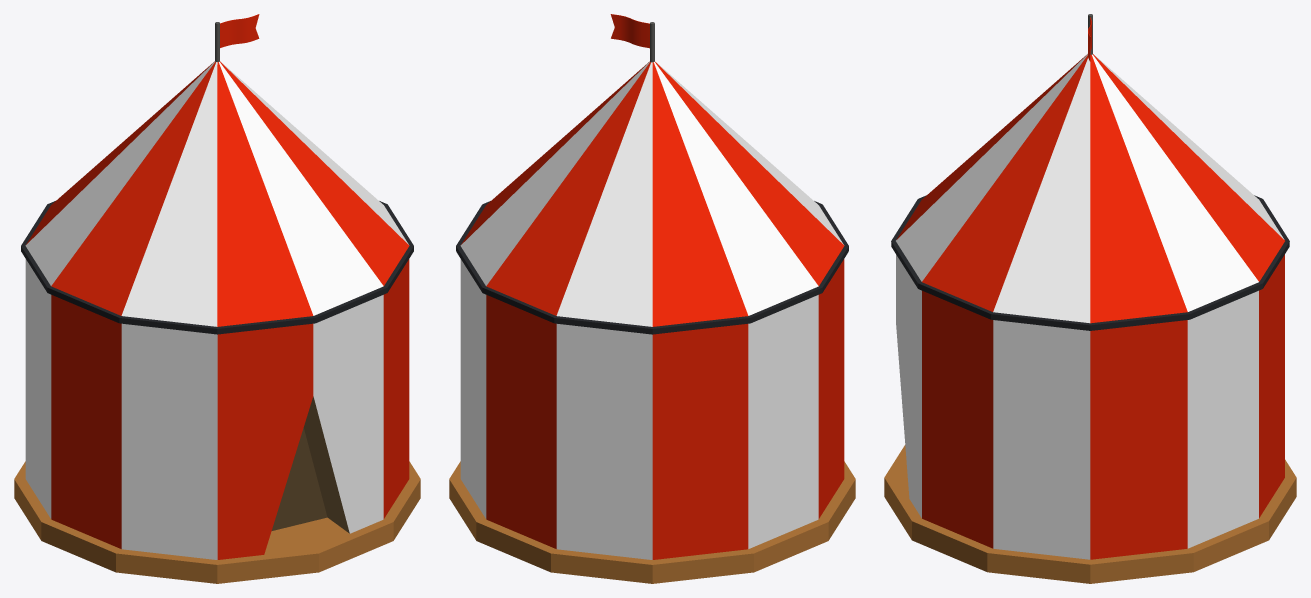
Rendered from Atraction_4.fbx.
The picture shows the model from 3 angles, left to right: view 1: azimuth 30°, elevation 25°; view 2: azimuth 150°, elevation 25°; view 3: azimuth 270°, elevation 25°; orthographic projection.
Visible parts, largest first — view 1: Atraction_4; view 2: Atraction_4; view 3: Atraction_4.
Boxes of the visible parts, left/top/right/bottom form: Atraction_4: left=14, top=14, right=420, bottom=583; Atraction_4: left=449, top=14, right=855, bottom=583; Atraction_4: left=884, top=14, right=1296, bottom=583.
Size of the model in its own units: 381 by 491 by 381.
